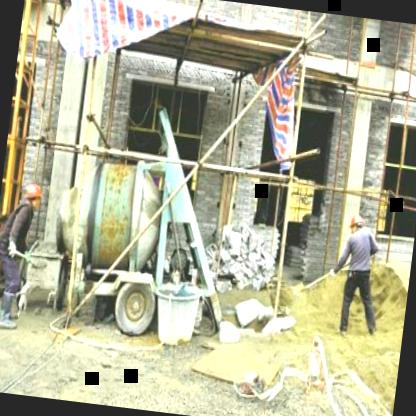helmet: (21, 179, 48, 214), (344, 209, 368, 238)
